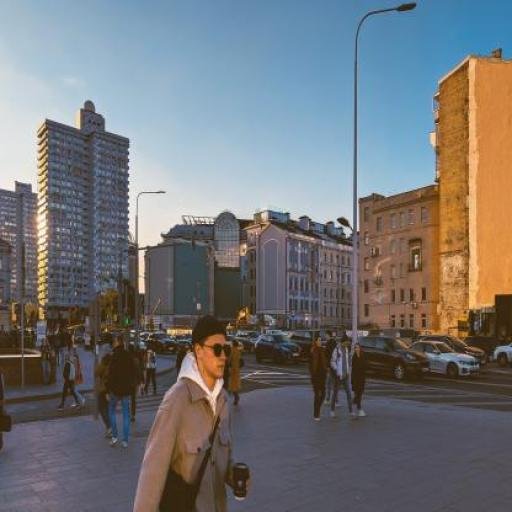street light: (348, 2, 418, 392), (134, 191, 166, 362), (182, 262, 196, 329)
